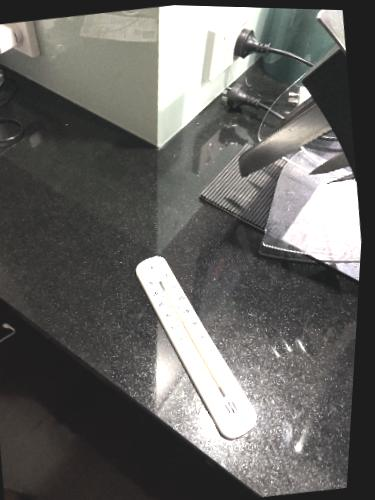thermo: (124, 247, 266, 447)
